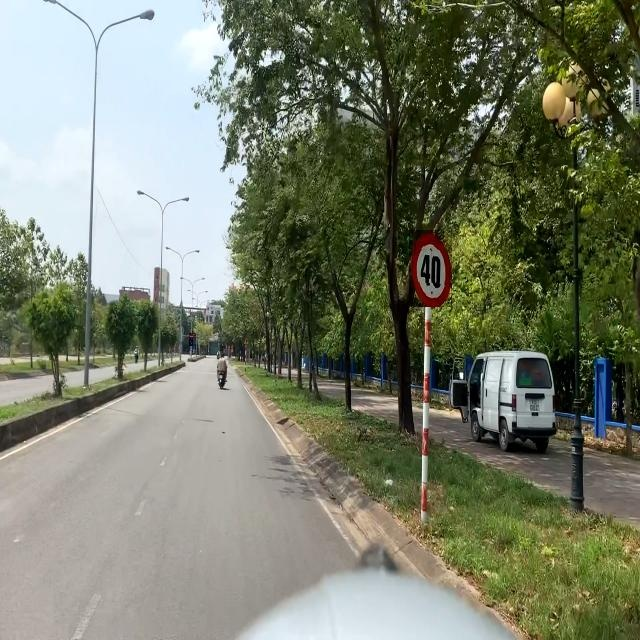bien_cam: (409, 230, 452, 307), (189, 339, 193, 346), (189, 333, 193, 339)
